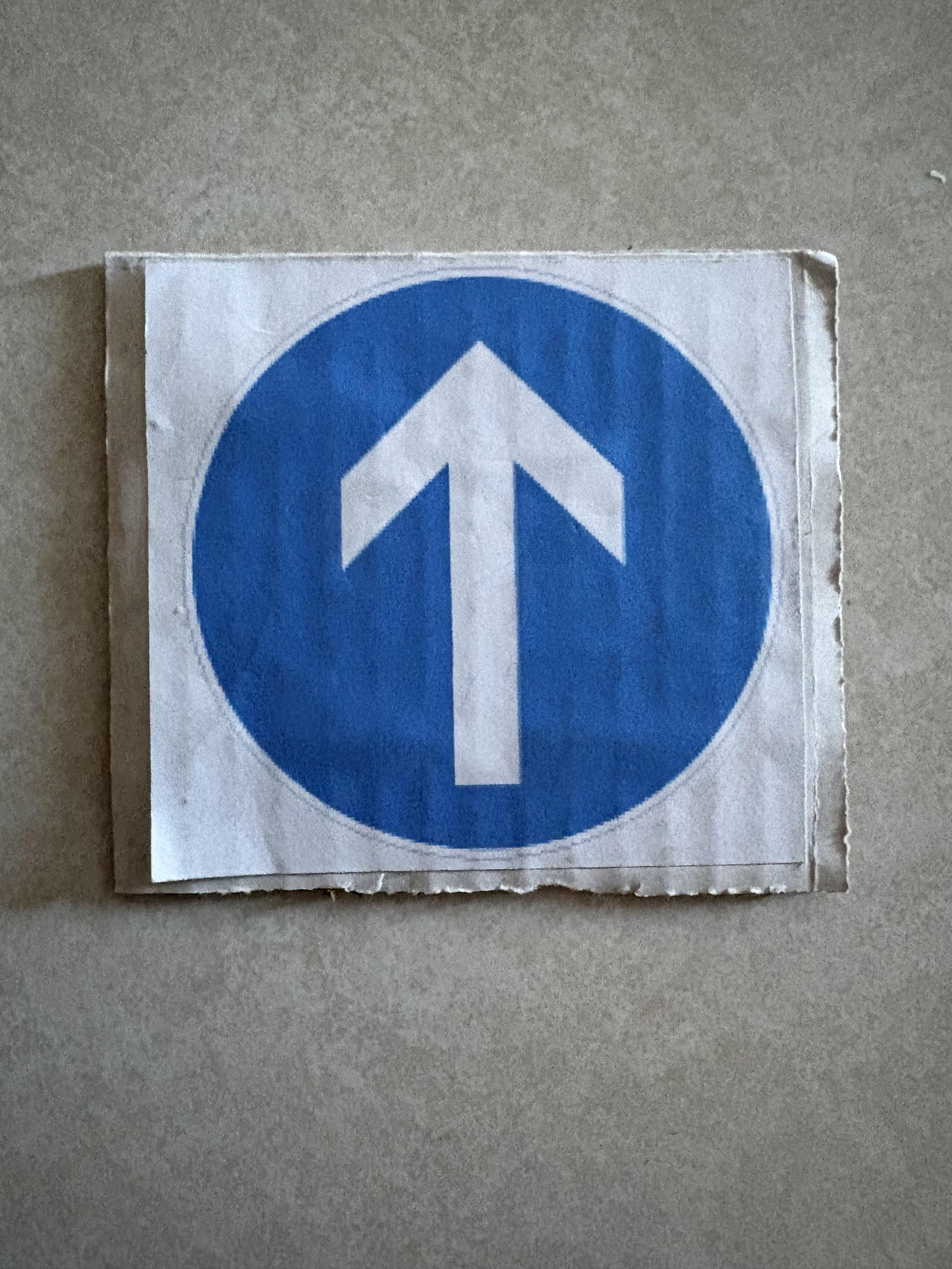Proceed Forward: (107, 248, 844, 905)
